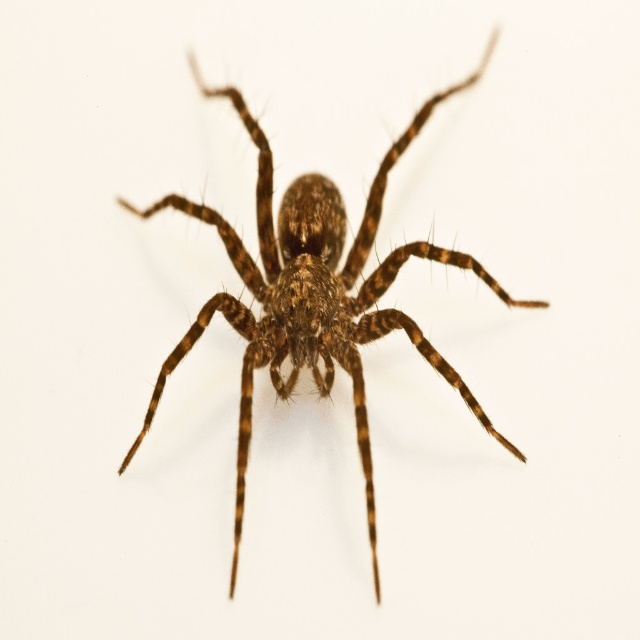Spider: (112, 24, 551, 607)
